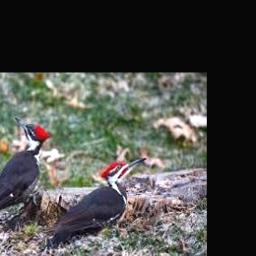Woodpecker: (41, 157, 146, 240), (0, 118, 51, 238)
